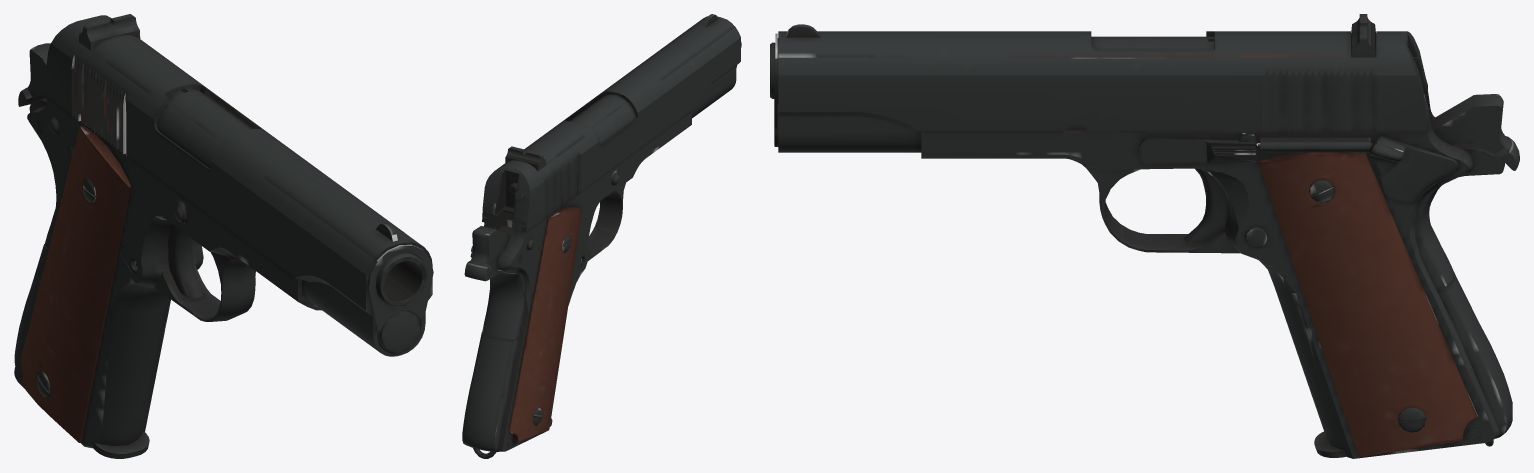
File: Max_model_1911.fbx
The picture shows the model from 3 angles, left to right: view 1: azimuth 30°, elevation 25°; view 2: azimuth 150°, elevation 25°; view 3: azimuth 270°, elevation 25°; orthographic projection. The views are drawn at different scales.
Parts seen in each view (by area): view 1: 1911A1; view 2: 1911A1; view 3: 1911A1.
Boxes of the visible parts, box(x1,y1,x2,y2) form: 1911A1: box(14, 14, 433, 458); 1911A1: box(462, 14, 741, 458); 1911A1: box(770, 14, 1519, 458).
Bounding box in the file's own units: 2.95 × 21.6 × 13.46.
